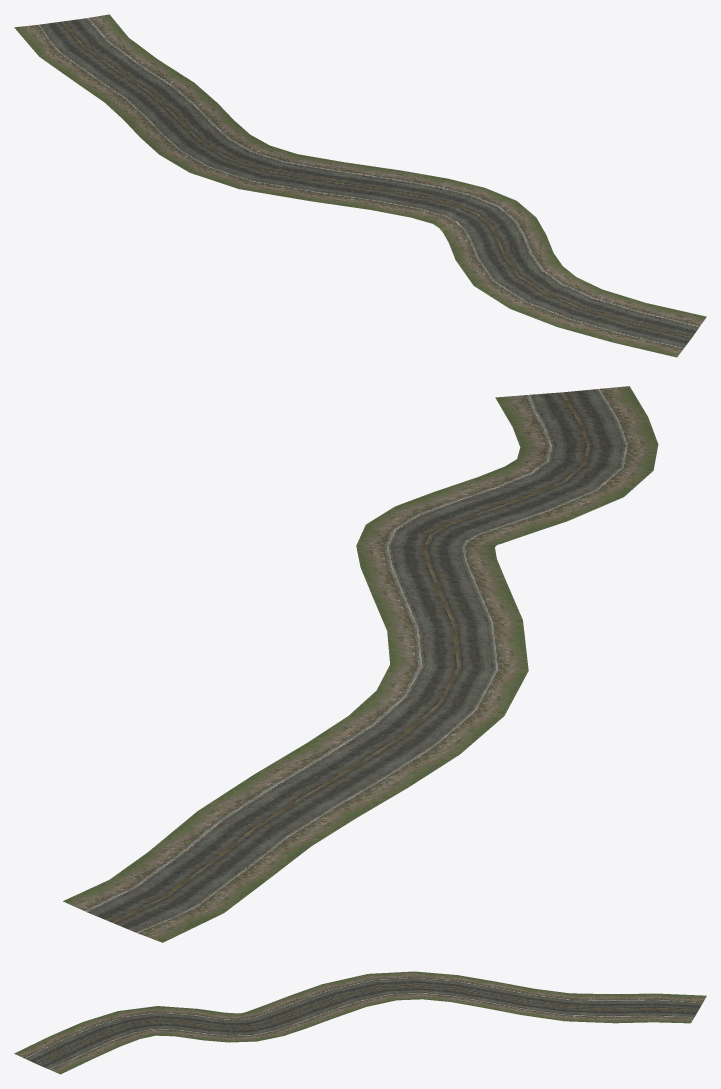
The model's file is lodcunte_roads37.obj.
The picture shows the model from 3 angles, top to bottom: view 1: azimuth 30°, elevation 25°; view 2: azimuth 150°, elevation 25°; view 3: azimuth 270°, elevation 25°; orthographic projection. The views are drawn at different scales.
Visible parts, largest first — view 1: LODcunte_roads37; view 2: LODcunte_roads37; view 3: LODcunte_roads37.
Part boxes in pixels (left/top/right/bottom): LODcunte_roads37: left=14, top=14, right=706, bottom=357; LODcunte_roads37: left=63, top=386, right=658, bottom=942; LODcunte_roads37: left=14, top=971, right=706, bottom=1074.
Size of the model in its own units: 60.9 by 6.57 by 201.
Materials: 1 (1 with a texture image).
